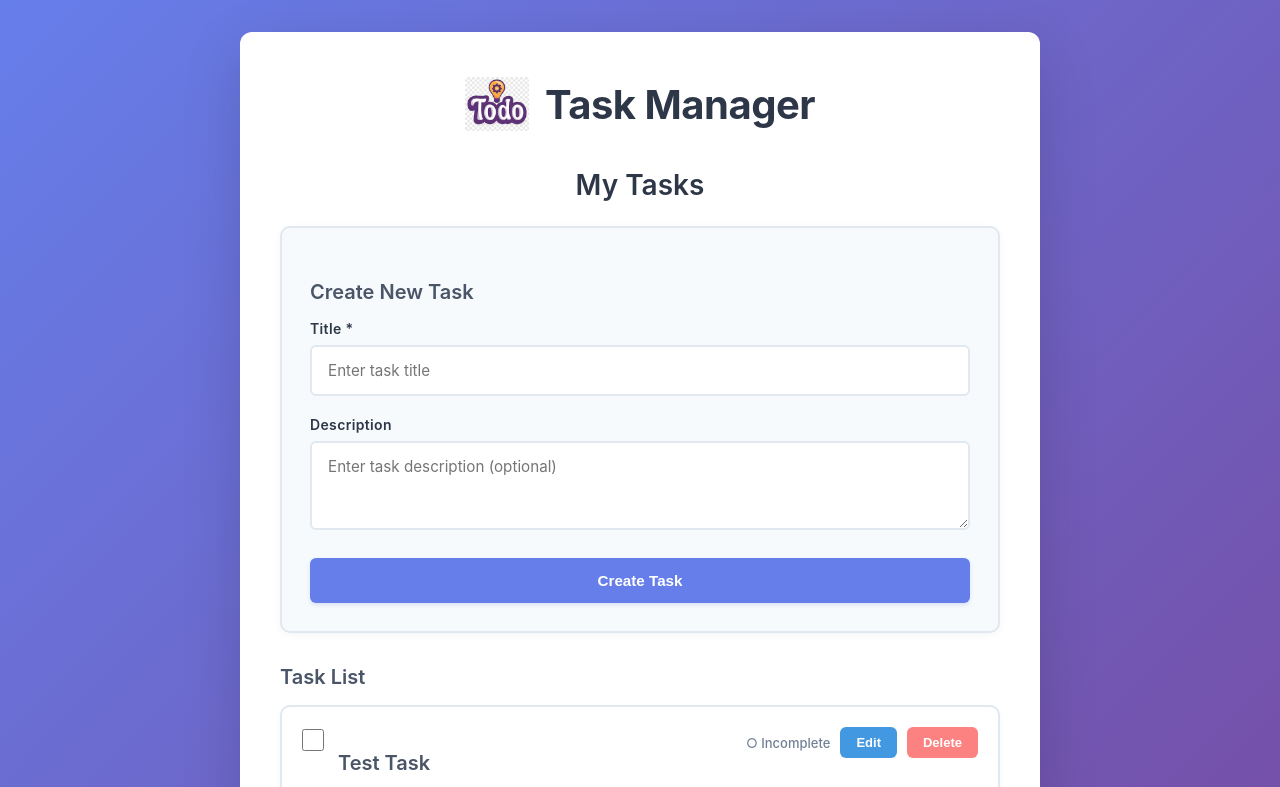
Test: App Component › Integration Tests - Complete User Flows › Task Editing Flow › should handle 404 error during update
This screenshot has width=1280, height=787.
Check: the heading "Test Task" is shown, box [338,751,430,775]
# Start editing
Click the button named "edit task \"test task\"" at (869, 742), box [840,727,897,758]
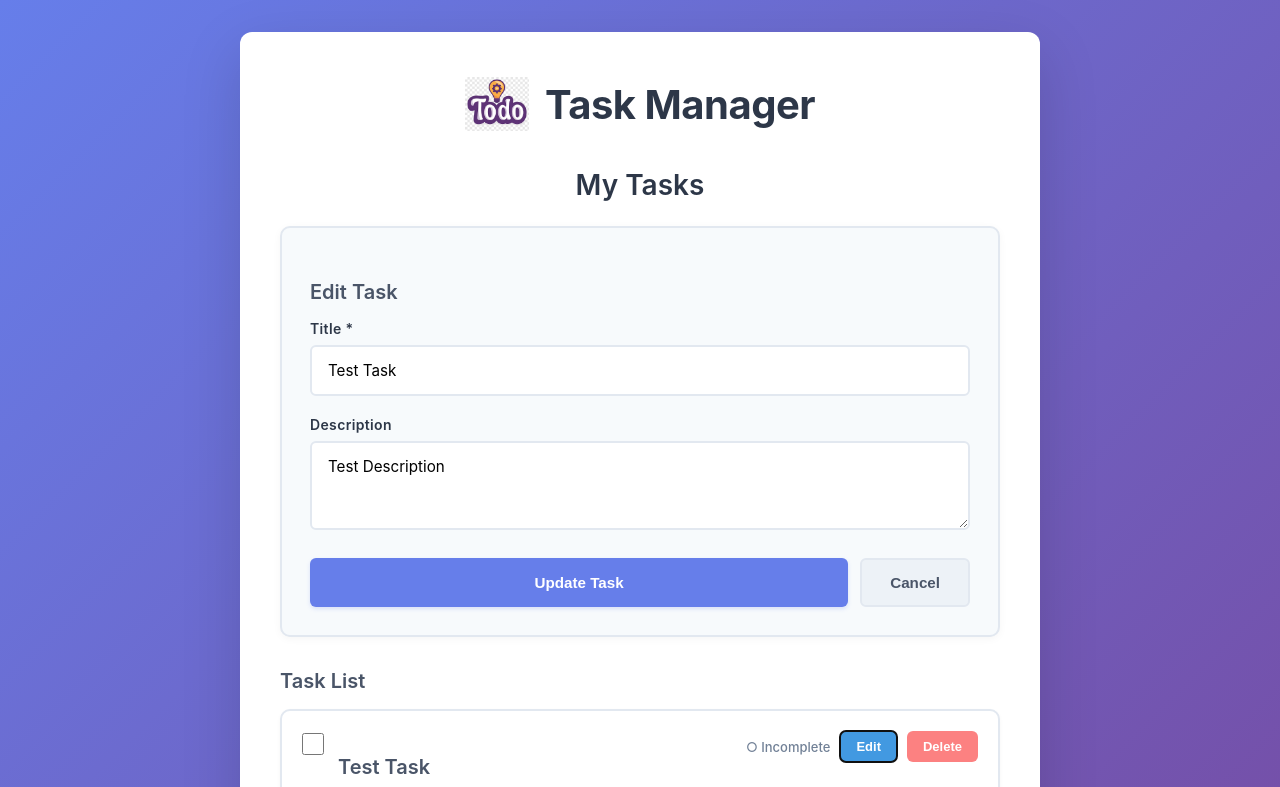
Check: the heading "Edit Task" is shown, box [310,280,398,304]
# Try to update
Replace the text in the field with placeholder "Enter task title" with "Updated Title" at (640, 370), box [310,345,970,396]
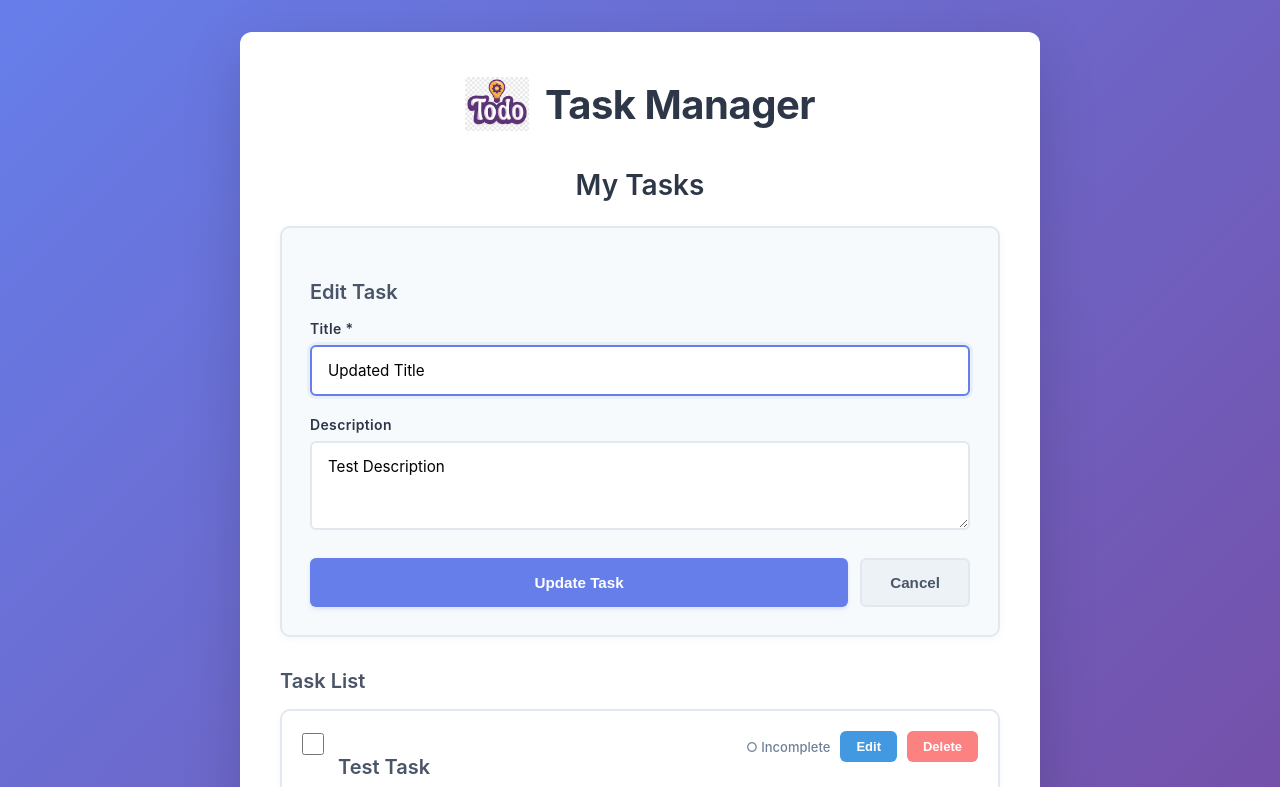
Click the button "Update Task" at (579, 582), box [310,558,848,607]
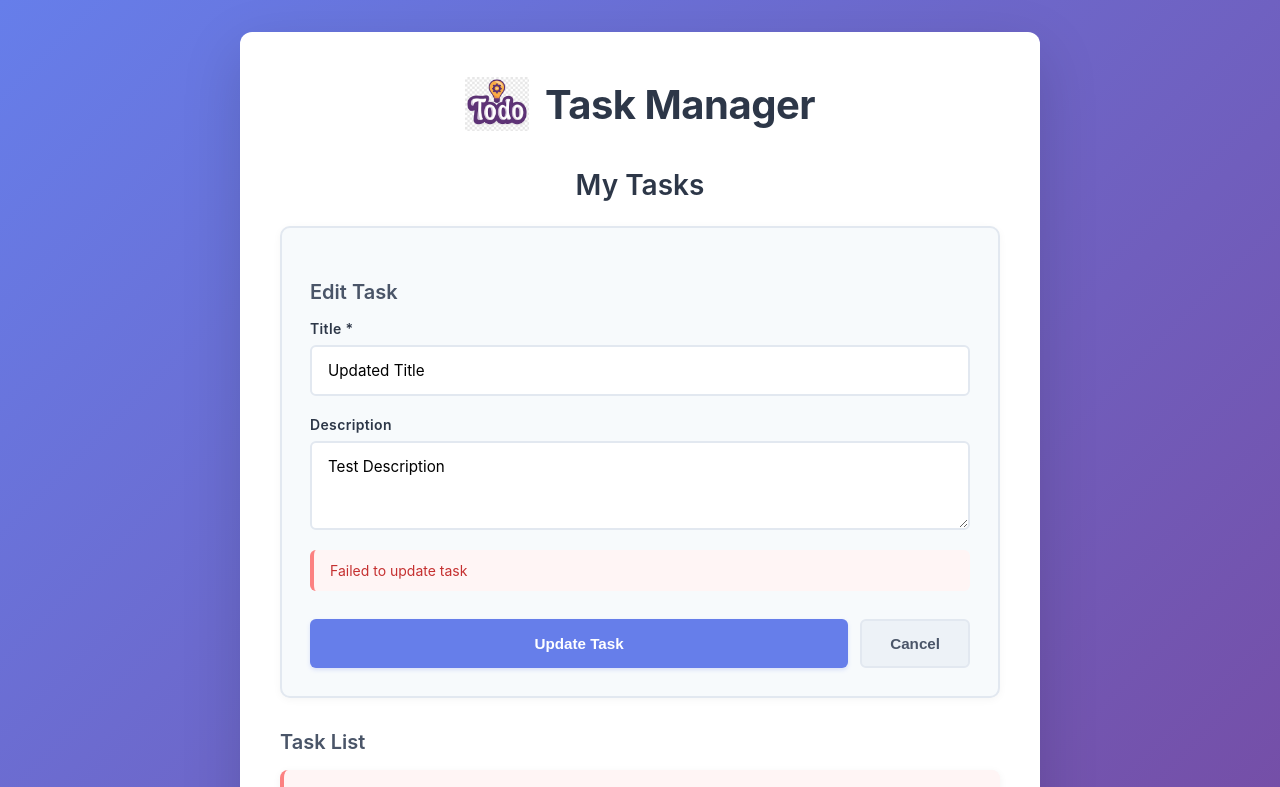
Check: the element with class "task-form-section" shows "Failed to update task", box [330,562,467,579]
